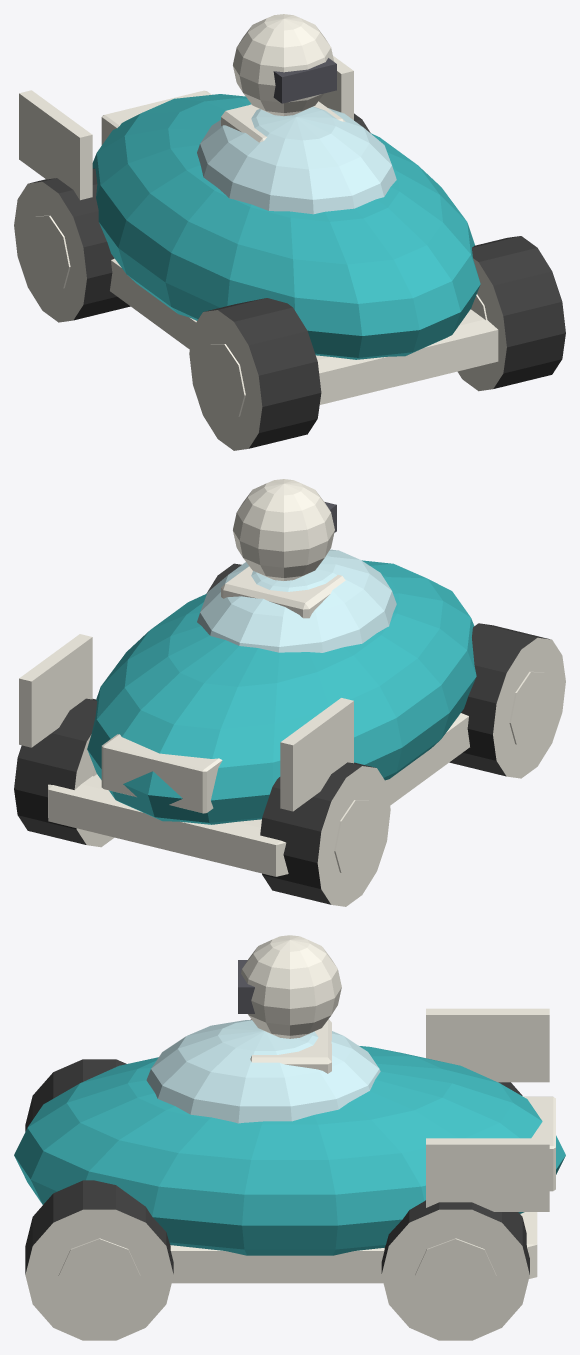
File: tideglass.glb
3 renders of one model, top to bottom at view 1: azimuth 30°, elevation 25°; view 2: azimuth 150°, elevation 25°; view 3: azimuth 270°, elevation 25°, orthographic.
Parts seen in each view (by area): view 1: TIDEGLASS_BODY, WHEEL_FL, WHEEL_RL, WHEEL_FR; view 2: TIDEGLASS_BODY, WHEEL_RL, WHEEL_FL, WHEEL_RR; view 3: TIDEGLASS_BODY, WHEEL_FR, WHEEL_RR, WHEEL_FL.
Part boxes in pixels (left/top/right/bottom): TIDEGLASS_BODY: left=19, top=14, right=498, bottom=404; WHEEL_FL: left=189, top=298, right=321, bottom=450; WHEEL_RL: left=14, top=168, right=130, bottom=322; WHEEL_FR: left=457, top=236, right=565, bottom=391; TIDEGLASS_BODY: left=19, top=479, right=476, bottom=876; WHEEL_RL: left=260, top=762, right=390, bottom=906; WHEEL_FL: left=449, top=623, right=565, bottom=778; WHEEL_RR: left=14, top=698, right=114, bottom=847; TIDEGLASS_BODY: left=14, top=935, right=565, bottom=1283; WHEEL_FR: left=25, top=1180, right=173, bottom=1340; WHEEL_RR: left=381, top=1200, right=529, bottom=1340; WHEEL_FL: left=25, top=1059, right=126, bottom=1131.
Bounding box in the file's own units: 1.45 × 1.45 × 2.23.
